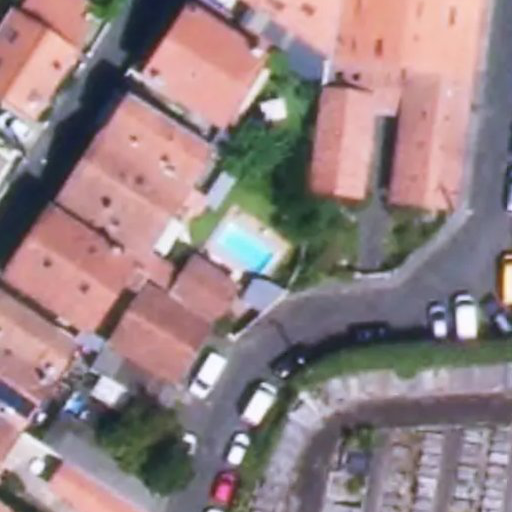pool: (225, 236, 286, 247)
